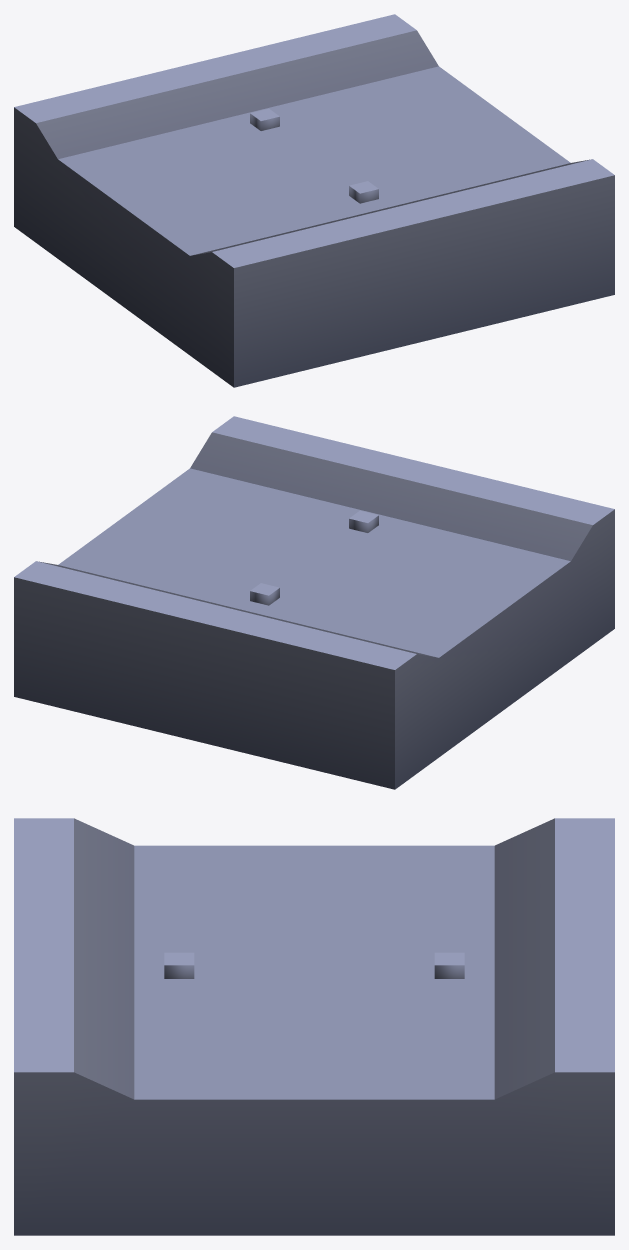
Rendered from floor-panel-straight.glb.
3 renders of one model, top to bottom at view 1: azimuth 30°, elevation 25°; view 2: azimuth 150°, elevation 25°; view 3: azimuth 270°, elevation 25°, orthographic. The views are drawn at different scales.
Visible parts, largest first — view 1: floor-panel-straight; view 2: floor-panel-straight; view 3: floor-panel-straight.
Boxes of the visible parts, x1,y1,x2,y2 form: floor-panel-straight: [14, 14, 614, 387]; floor-panel-straight: [14, 416, 614, 789]; floor-panel-straight: [14, 818, 614, 1235].
Bounding box in the file's own units: 1 × 0.3 × 1.
